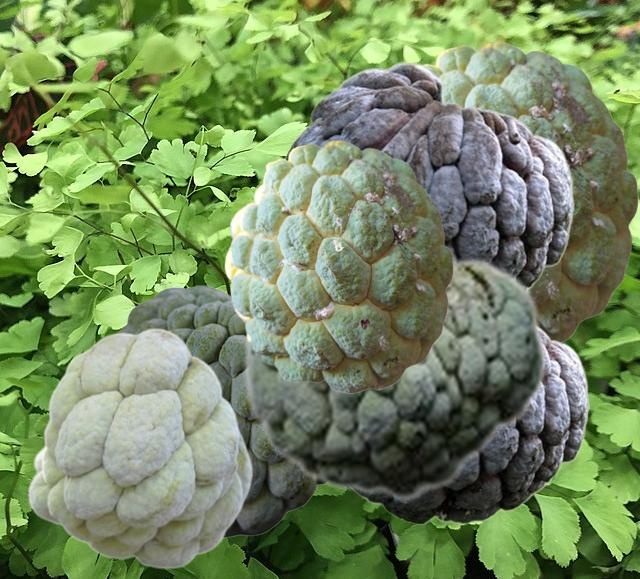atis: (242, 250, 547, 501), (283, 61, 573, 288), (424, 41, 637, 342), (224, 140, 452, 392), (27, 327, 252, 568), (118, 285, 322, 537), (352, 327, 588, 523)
